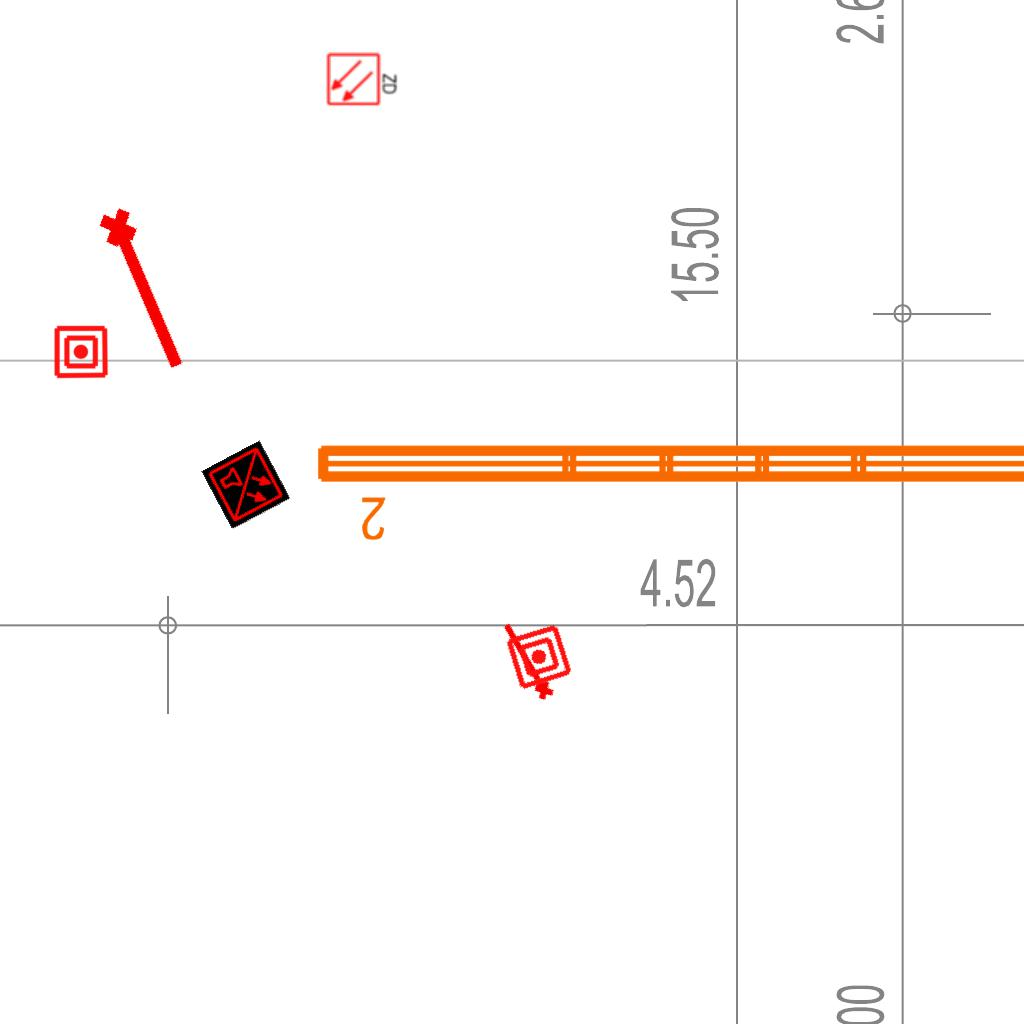ASR_Ansaugoeffnung: (91, 199, 203, 379), (494, 617, 558, 706)
Ambulanz_Pendelleuchte_LED: (309, 433, 1024, 545)
NAM-Nichtautomatischer_Melder: (504, 622, 574, 692), (53, 324, 109, 380)
OKW_Multisensormelder_(Kombination_optischer_Rauch-Kahlenmonoxid_Waerme-Melder): (201, 440, 291, 530)
ZD_Melder_in_Zwischendecke_mit_Revisionsoeffnung_mind_40_x_40_cm: (326, 50, 400, 107)
